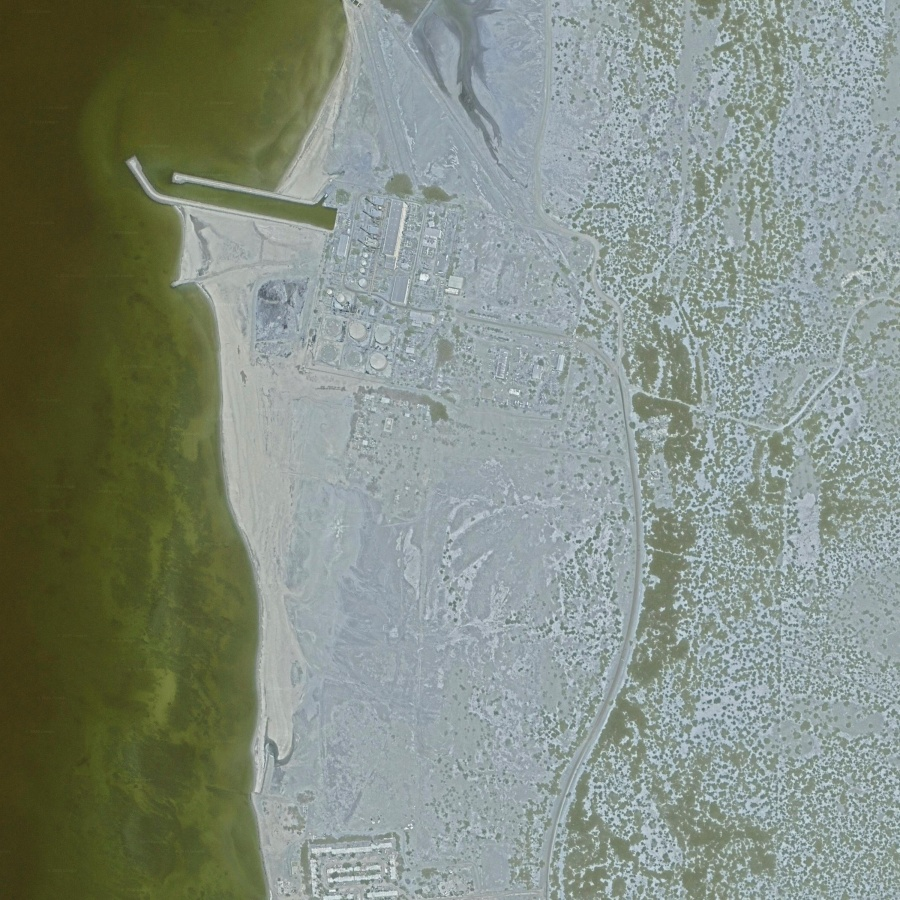PowerPlant: (244, 185, 472, 388)
